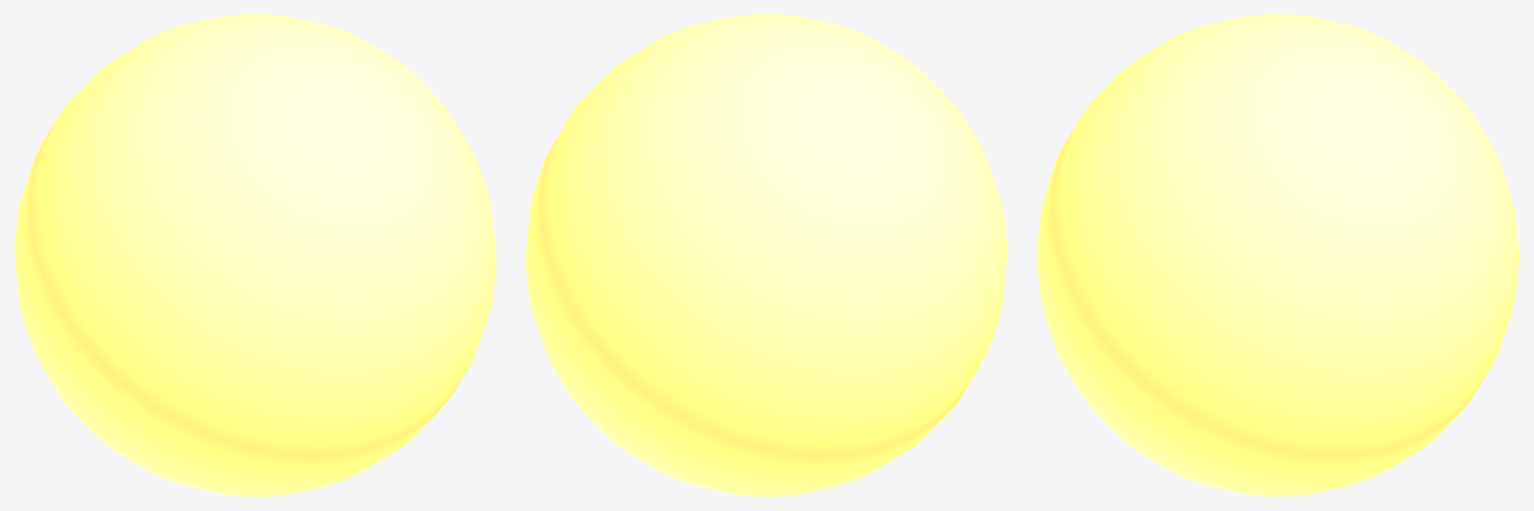
Rendered from quantum-ball-before-humanization.gltf.
The picture shows the model from 3 angles, left to right: view 1: azimuth 30°, elevation 25°; view 2: azimuth 150°, elevation 25°; view 3: azimuth 270°, elevation 25°; orthographic projection.
Parts seen in each view (by area): view 1: QuantumBallHalo; view 2: QuantumBallHalo; view 3: QuantumBallHalo.
Boxes of the visible parts, box(x1,y1,x2,y2) form: QuantumBallHalo: box(14, 14, 496, 496); QuantumBallHalo: box(525, 14, 1007, 496); QuantumBallHalo: box(1036, 14, 1519, 496).
Bounding box in the file's own units: 0.19 × 0.19 × 0.19.
